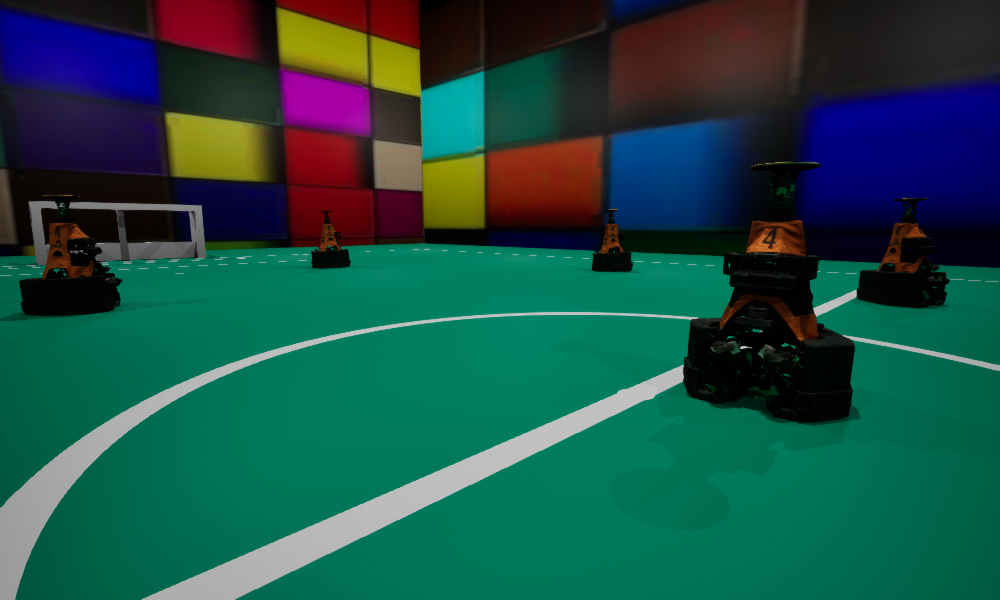0 orange robot TechUnited: (683, 162, 854, 420), (19, 195, 122, 315), (857, 198, 949, 307), (592, 209, 632, 271), (311, 211, 350, 268)
